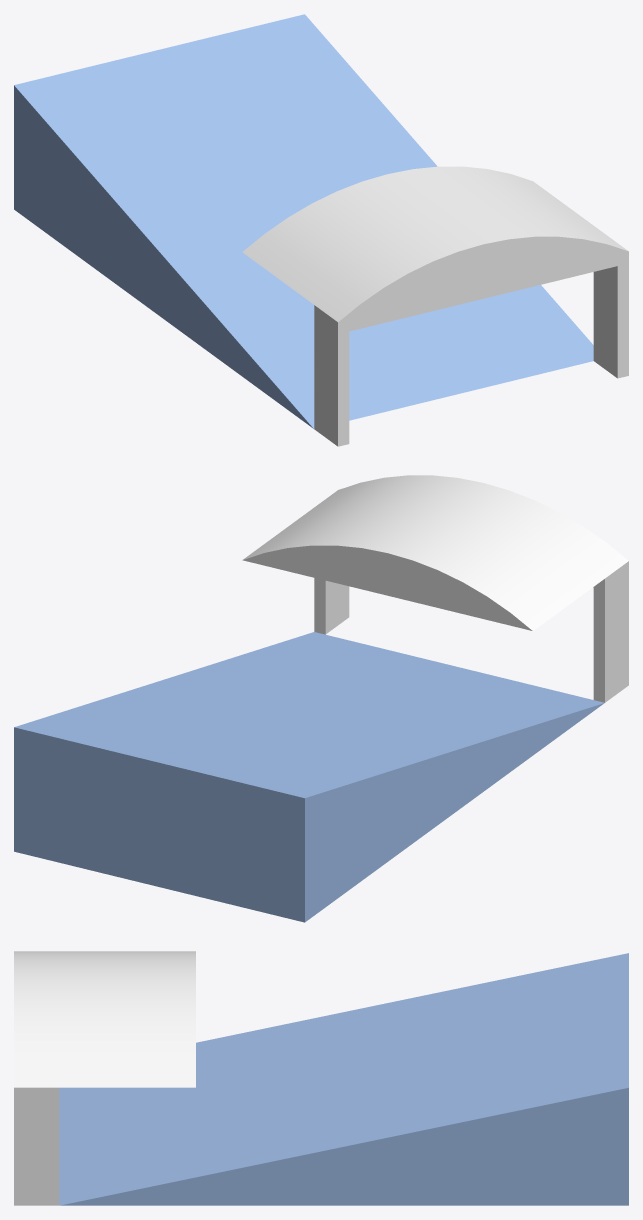
File: dic29b.glb
The picture shows the model from 3 angles, top to bottom: view 1: azimuth 30°, elevation 25°; view 2: azimuth 150°, elevation 25°; view 3: azimuth 270°, elevation 25°; orthographic projection. The views are drawn at different scales.
Parts seen in each view (by area): view 1: dic29b; view 2: dic29b; view 3: dic29b.
Boxes of the visible parts, x1,y1,x2,y2 form: dic29b: (14, 14, 628, 446); dic29b: (14, 475, 628, 922); dic29b: (14, 951, 628, 1205).
Bounding box in the file's own units: 4.43 × 2.43 × 8.55.
